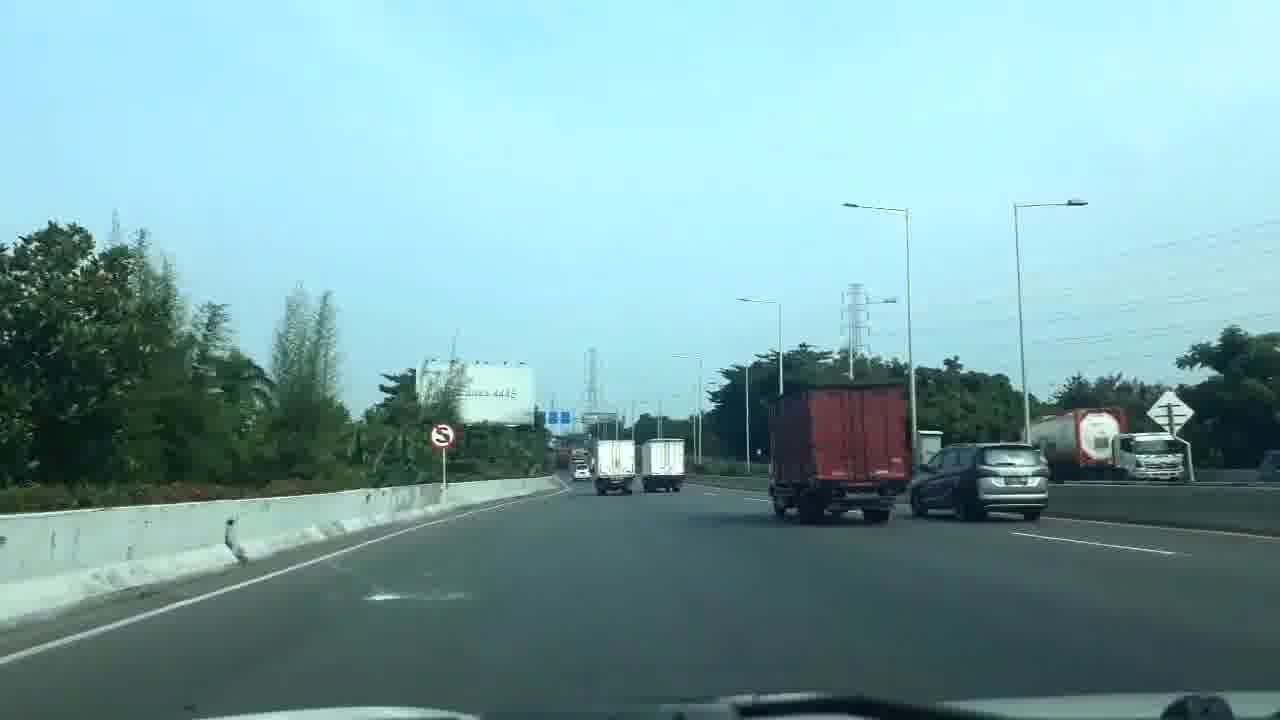plate_positive: (846, 491, 881, 500), (1005, 476, 1029, 485)
